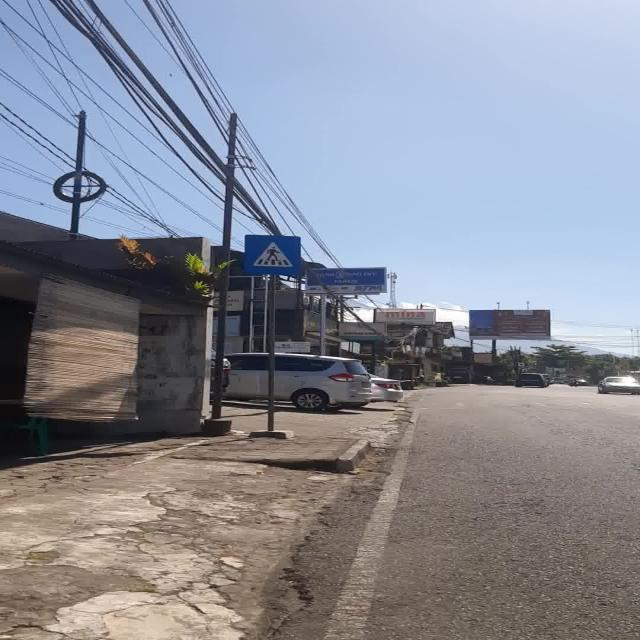Perintah Jalur Penyebrangan: (244, 234, 302, 274)
